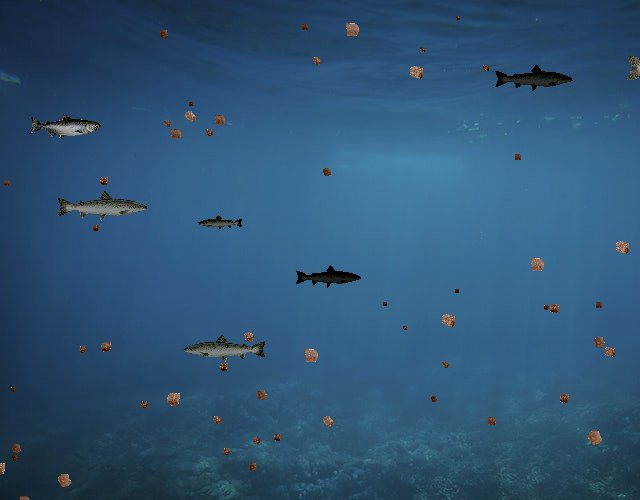Fish: (55, 190, 149, 223), (182, 333, 268, 364), (494, 64, 575, 93), (29, 113, 102, 139), (294, 264, 362, 289), (198, 215, 245, 232)
Pellet: (159, 385, 187, 413), (178, 104, 203, 129), (316, 409, 340, 433), (237, 325, 260, 348), (6, 438, 27, 459), (159, 115, 176, 132), (74, 342, 90, 358), (478, 61, 492, 75), (540, 301, 553, 314)
